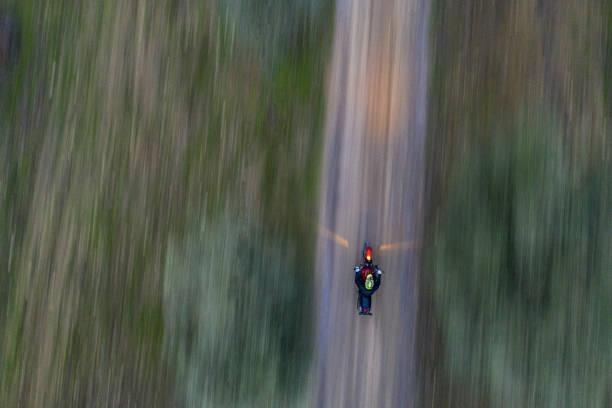Motorcycle: (350, 240, 386, 319)
